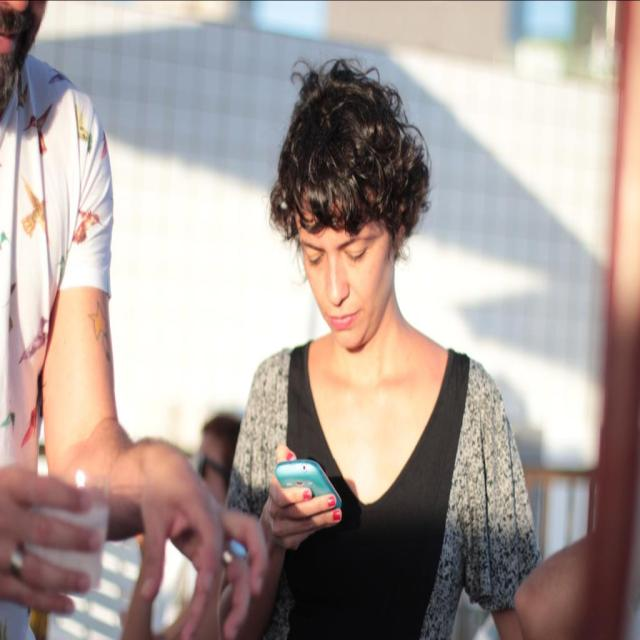phone: (276, 460, 342, 514)
